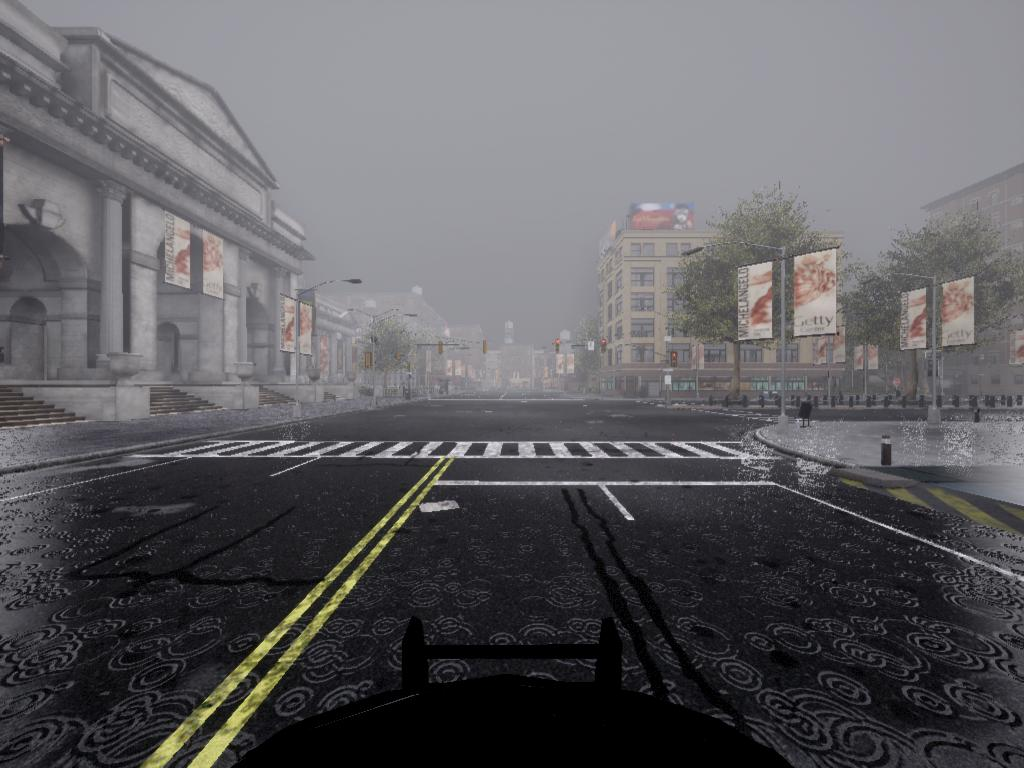traffic_light: (671, 351, 678, 371), (554, 341, 563, 356), (601, 340, 608, 357), (483, 341, 489, 357), (439, 341, 445, 356)
